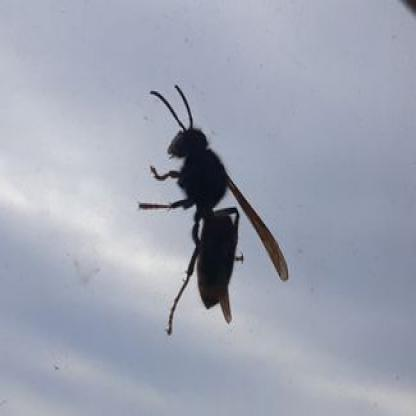Asian Hornet: (137, 83, 291, 337)
